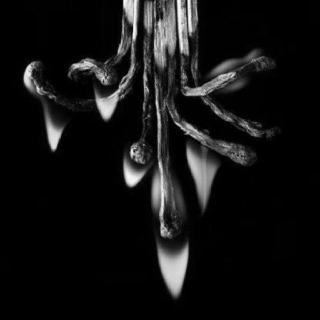Fire: (113, 140, 241, 290), (20, 58, 132, 160), (195, 47, 267, 101)
